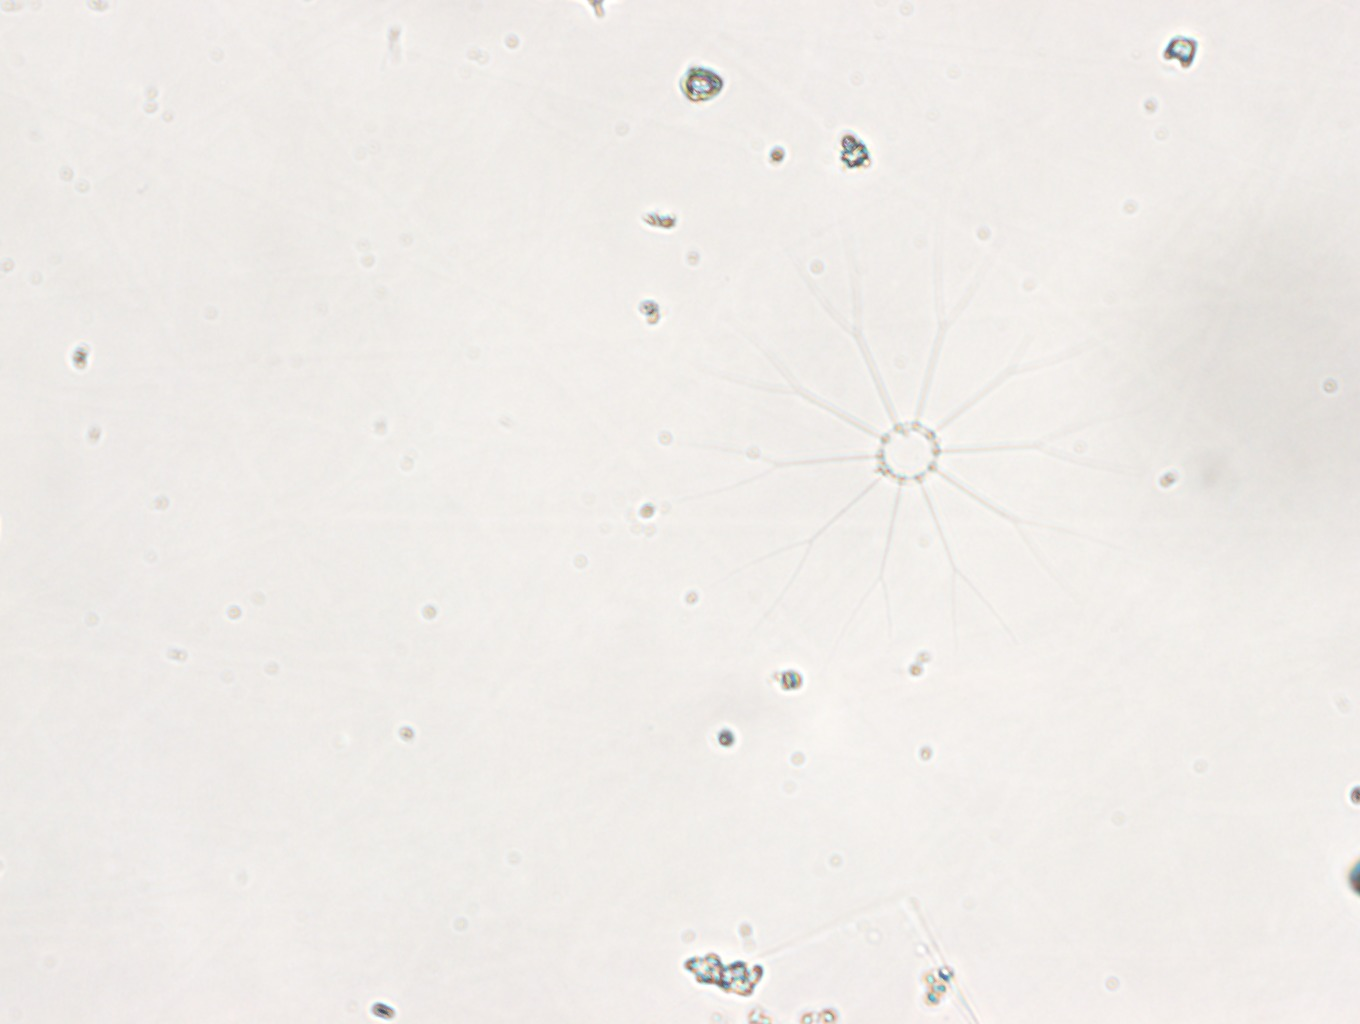bacteriastrum: (693, 226, 1128, 650)
